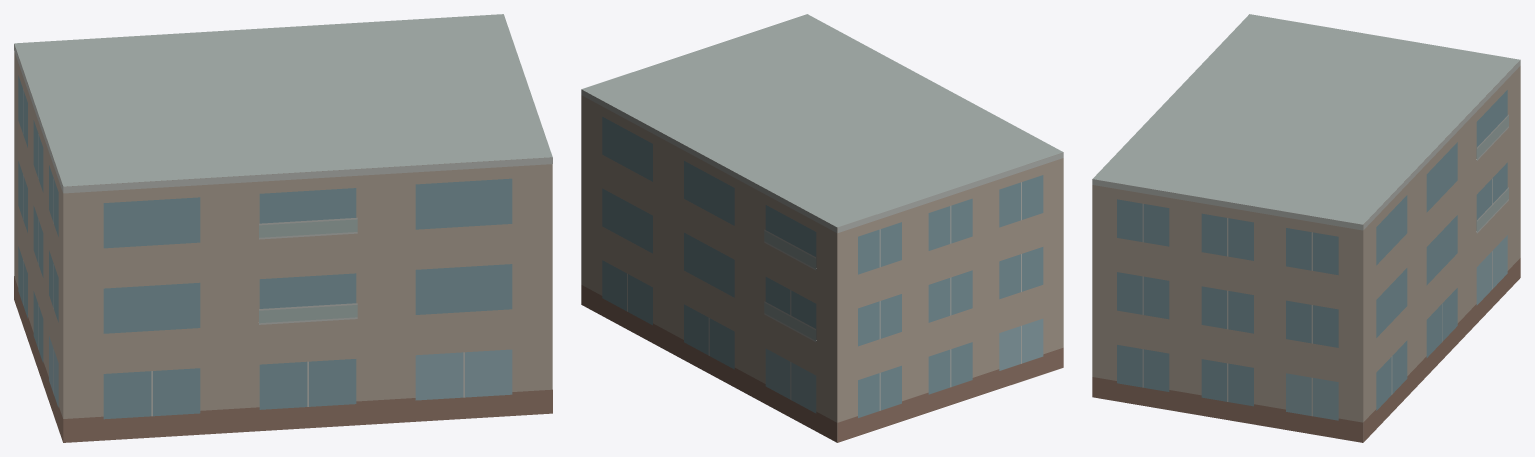
File: survey-upis-32797650.glb
3 views of the same model, side by side, from view 1: azimuth 30°, elevation 25°; view 2: azimuth 150°, elevation 25°; view 3: azimuth 270°, elevation 25° (orthographic). The views are drawn at different scales.
Parts seen in each view (by area): view 1: survey-upis-32797650.tmp; view 2: survey-upis-32797650.tmp; view 3: survey-upis-32797650.tmp.
Part boxes in pixels (x1,y1,x2,y2): survey-upis-32797650.tmp: (14, 14, 552, 442); survey-upis-32797650.tmp: (581, 14, 1063, 442); survey-upis-32797650.tmp: (1092, 14, 1520, 442).
Size of the model in its own units: 18.97 by 9.15 by 16.29.
